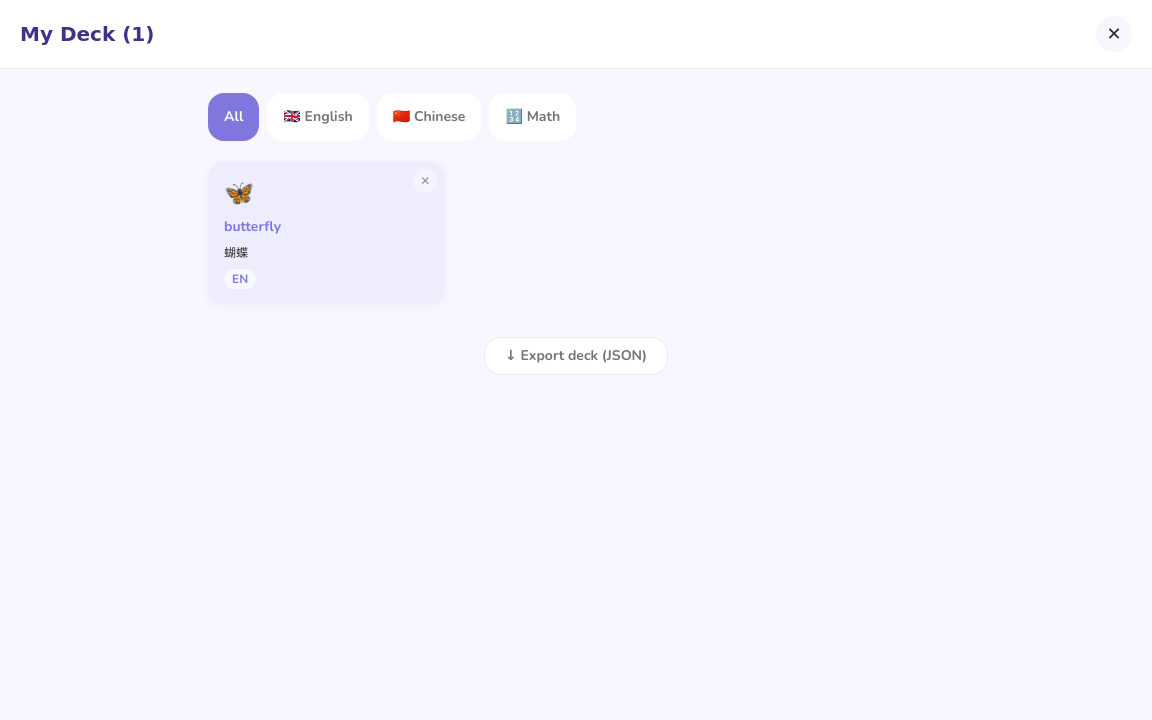
DeckView — with cards › cancelling delete hides confirm row
The image size is (1152, 720).
Click the 2nd button "✕" at x=425, y=181, box [413,169,437,193]
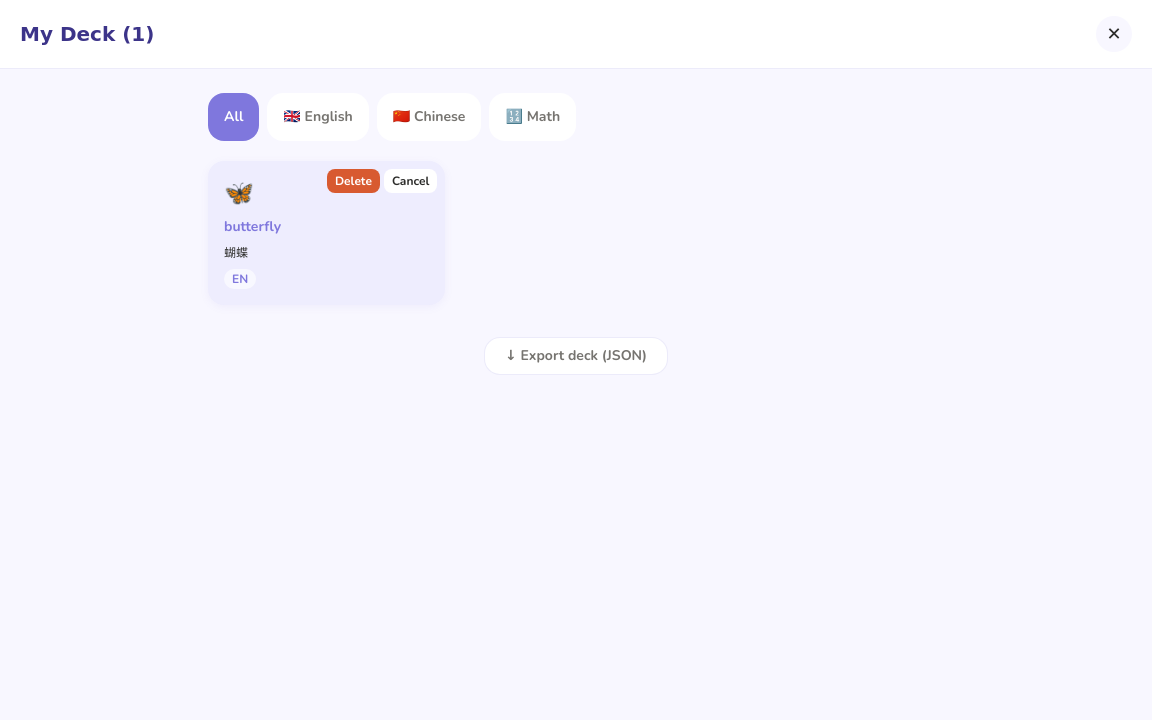
Click the button "Cancel" at x=411, y=181, box [384,169,437,193]
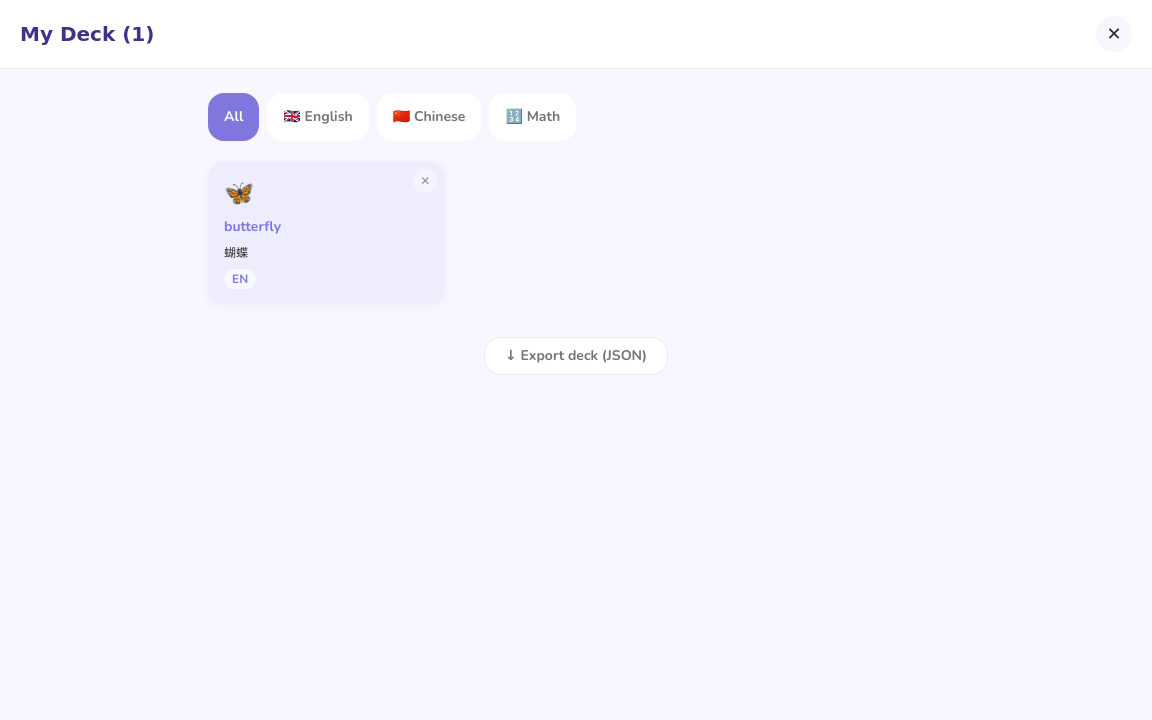
Expected: the button "Cancel" is gone
